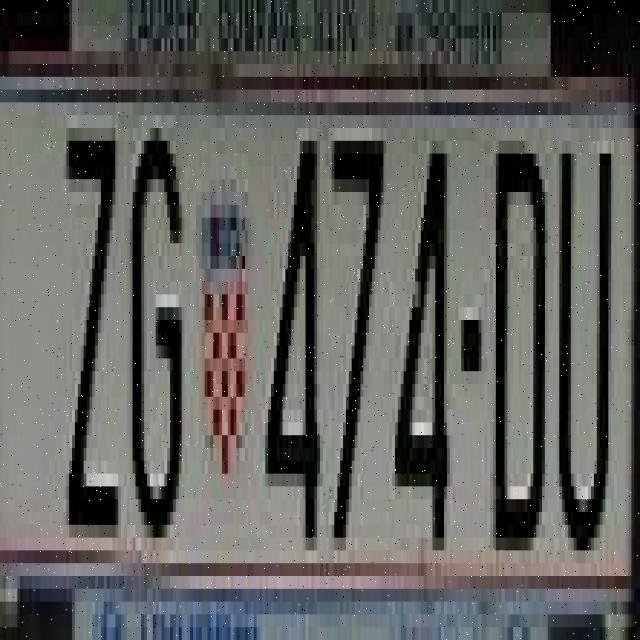4: (389, 121, 453, 556), (262, 115, 320, 550)
7: (327, 115, 382, 550)
D: (487, 128, 548, 563)
G: (128, 115, 186, 538)
U: (553, 121, 617, 556)
Z: (64, 115, 121, 538)
